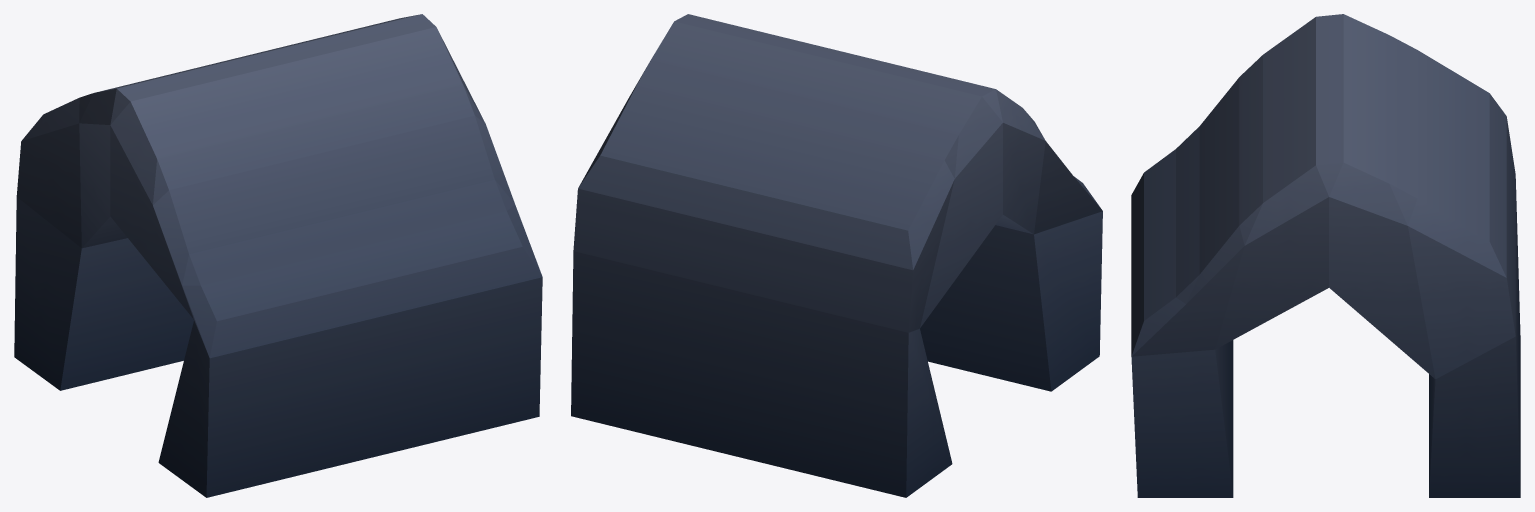
The model's file is SM_HallwayRock1.fbx.
3 renders of one model, left to right at view 1: azimuth 30°, elevation 25°; view 2: azimuth 150°, elevation 25°; view 3: azimuth 270°, elevation 25°, orthographic.
Parts seen in each view (by area): view 1: SM_HallwayRock1; view 2: SM_HallwayRock1; view 3: SM_HallwayRock1.
Part boxes in pixels (left/top/right/bottom): SM_HallwayRock1: left=14, top=14, right=542, bottom=497; SM_HallwayRock1: left=571, top=14, right=1102, bottom=497; SM_HallwayRock1: left=1131, top=14, right=1520, bottom=497.
Size of the model in its own units: 211 by 190 by 203.
